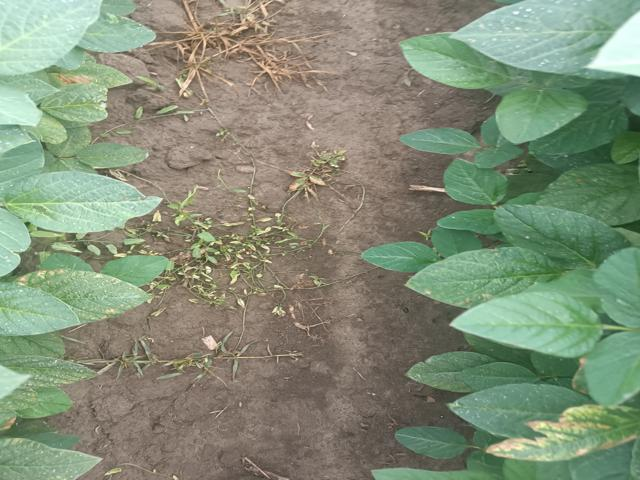bad weed: (131, 142, 360, 309), (159, 8, 337, 88), (97, 328, 306, 389)
